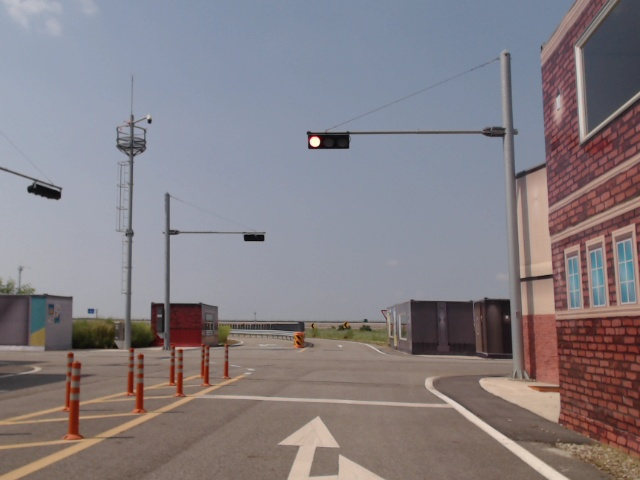red_3: (307, 133, 349, 148)
